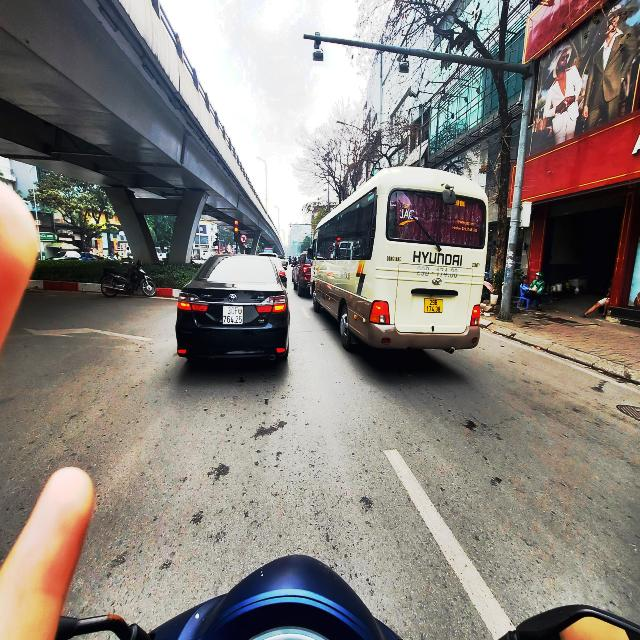license_plate: (224, 307, 244, 326), (425, 299, 444, 314)
